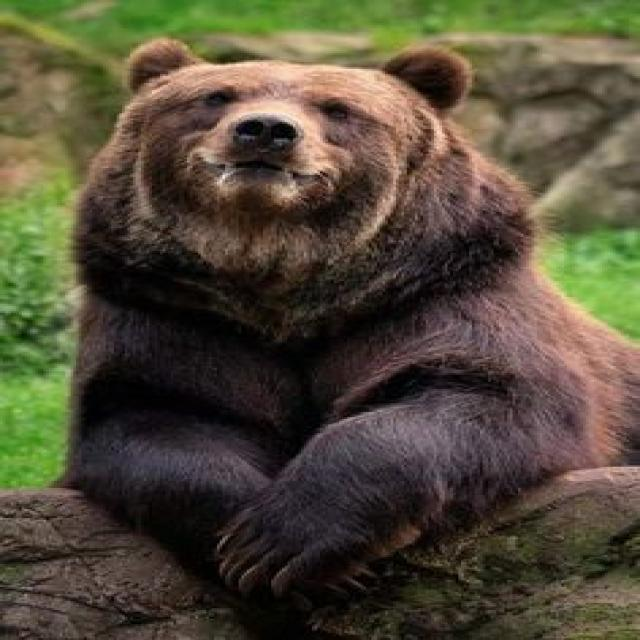Carnivorous: (54, 39, 640, 613)
